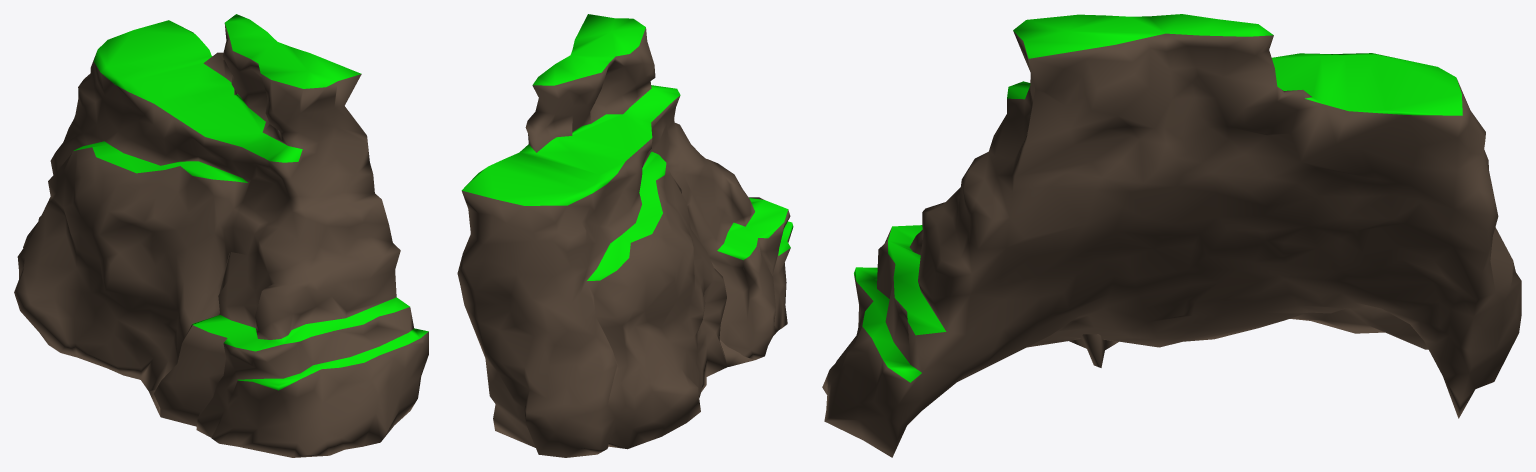
The model's file is Cliff_4_Beach_Low.fbx.
The picture shows the model from 3 angles, left to right: view 1: azimuth 30°, elevation 25°; view 2: azimuth 150°, elevation 25°; view 3: azimuth 270°, elevation 25°; orthographic projection. The views are drawn at different scales.
Visible parts, largest first — view 1: Cliff_4_Beach_Low; view 2: Cliff_4_Beach_Low; view 3: Cliff_4_Beach_Low.
Part boxes in pixels (x1,y1,x2,y2): Cliff_4_Beach_Low: [14, 14, 428, 457]; Cliff_4_Beach_Low: [457, 14, 793, 457]; Cliff_4_Beach_Low: [822, 14, 1521, 457].
Bounding box in the file's own units: 1972 × 2321 × 3569.
